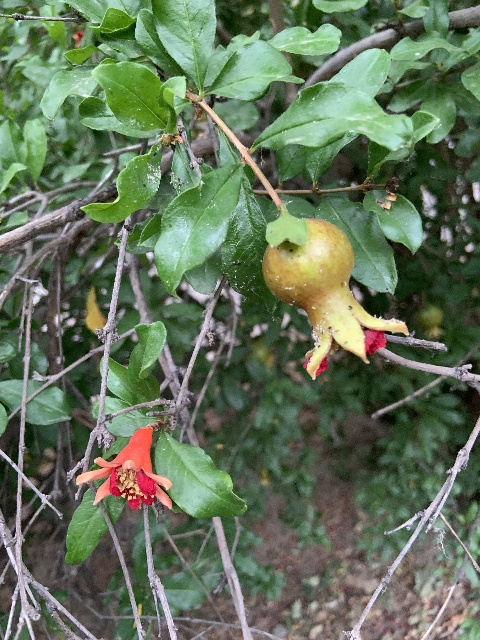early-fruit: (263, 218, 409, 379)
flower: (75, 425, 176, 510)
mid-growth: (415, 304, 445, 339)
